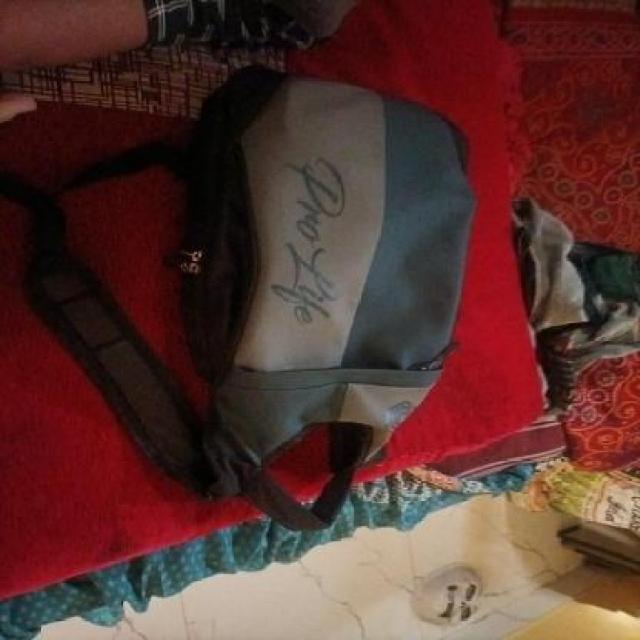backpack: (166, 57, 482, 540)
